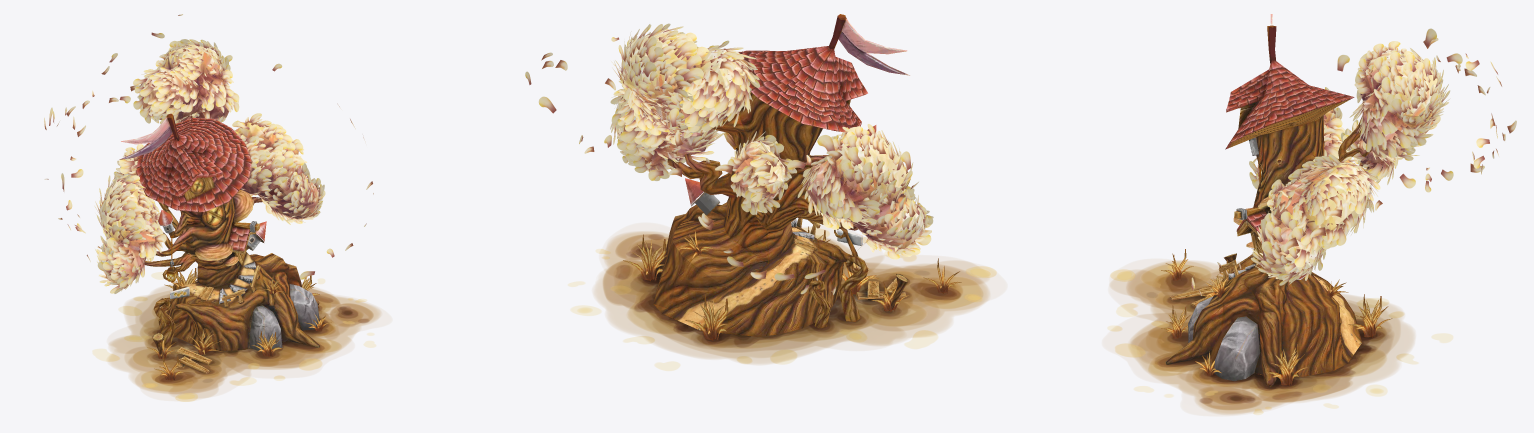
File: BLD_FloTreehouse.glb
3 renders of one model, left to right at view 1: azimuth 30°, elevation 25°; view 2: azimuth 150°, elevation 25°; view 3: azimuth 270°, elevation 25°, orthographic. The views are drawn at different scales.
Visible parts, largest first — view 1: Cube.009_0, Cube.3468_0, Circle.007_0; view 2: Cube.009_0, Cube.3468_0, Circle.007_0; view 3: Cube.009_0, Cube.3468_0, Circle.007_0.
Part boxes in pixels (box(x1,y1,x2,y2)): Cube.009_0: box(99, 44, 331, 380); Cube.3468_0: box(44, 14, 373, 293); Circle.007_0: box(92, 272, 381, 401); Cube.009_0: box(616, 14, 961, 340); Cube.3468_0: box(525, 23, 933, 294); Circle.007_0: box(568, 227, 996, 370); Cube.009_0: box(1161, 14, 1441, 387); Cube.3468_0: box(1191, 28, 1516, 295); Circle.007_0: box(1108, 260, 1452, 414).
Bounding box in the file's own units: 2.63 × 2.14 × 2.82.
Materials: 3 (3 with a texture image).
